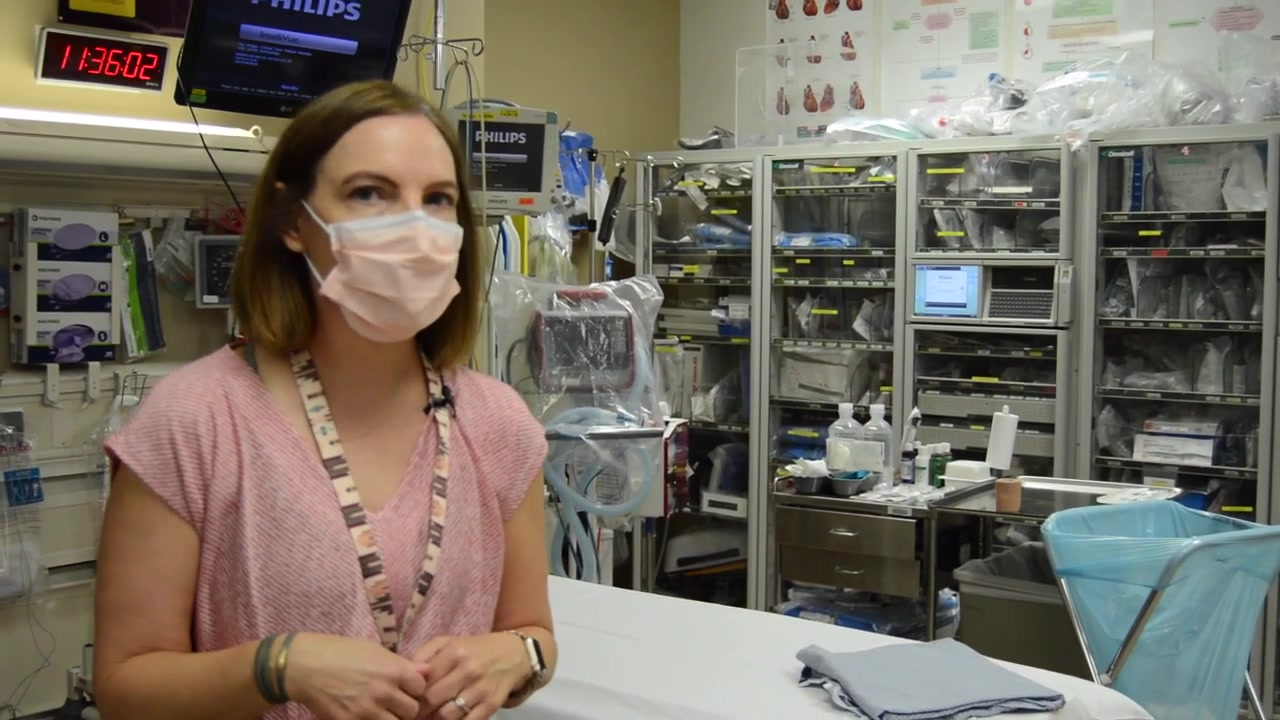bedside_monitor: (175, 1, 413, 122), (455, 110, 551, 211)
breathing_tube: (545, 408, 656, 586)
cabinet: (632, 120, 1280, 720)
dispenser: (6, 209, 123, 363)
handle: (830, 561, 872, 580), (824, 523, 862, 540)
hospital_bed: (486, 576, 1154, 720)
iv_pole: (549, 143, 630, 285), (602, 151, 689, 275), (387, 1, 481, 94)
medical_drawer: (770, 460, 985, 642)
staff: (91, 79, 560, 720)
surgical_instrument: (772, 415, 995, 509)
utility_cart: (928, 471, 1185, 651)
ventilator: (492, 271, 687, 583)
waste_bin: (1039, 501, 1280, 720), (951, 541, 1099, 680)
